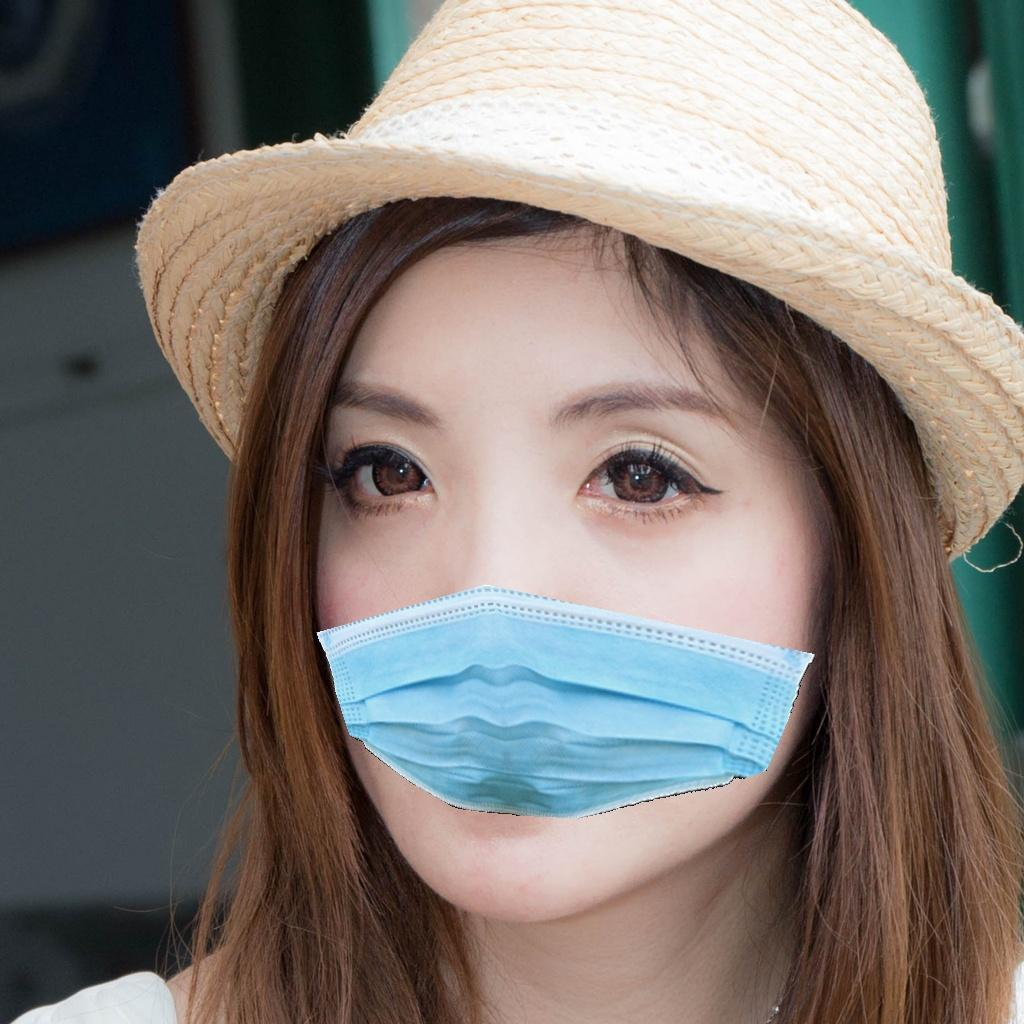Com Máscara: (286, 346, 800, 901)
